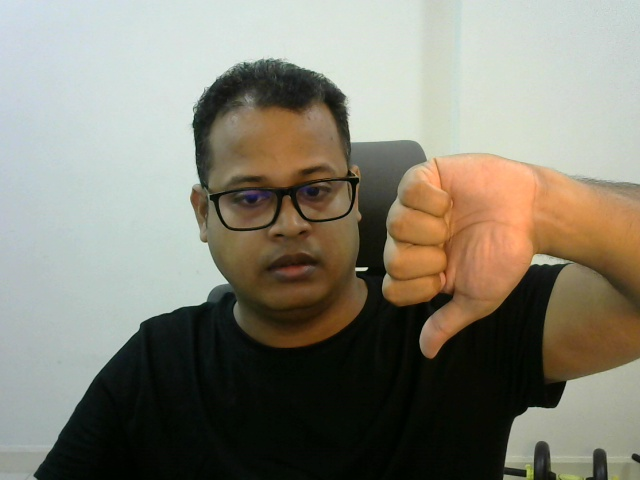ThumbsDown: (380, 152, 541, 360)
